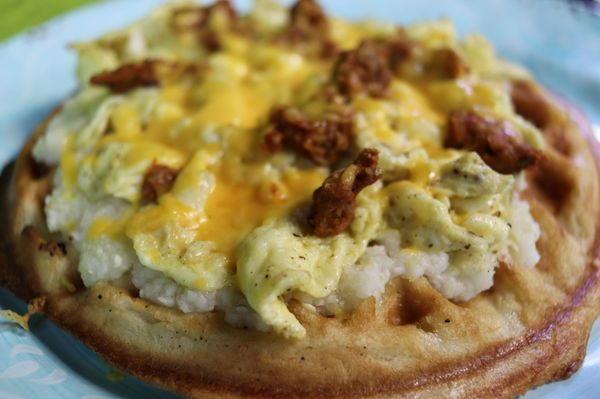sandwich: (2, 1, 600, 393)
